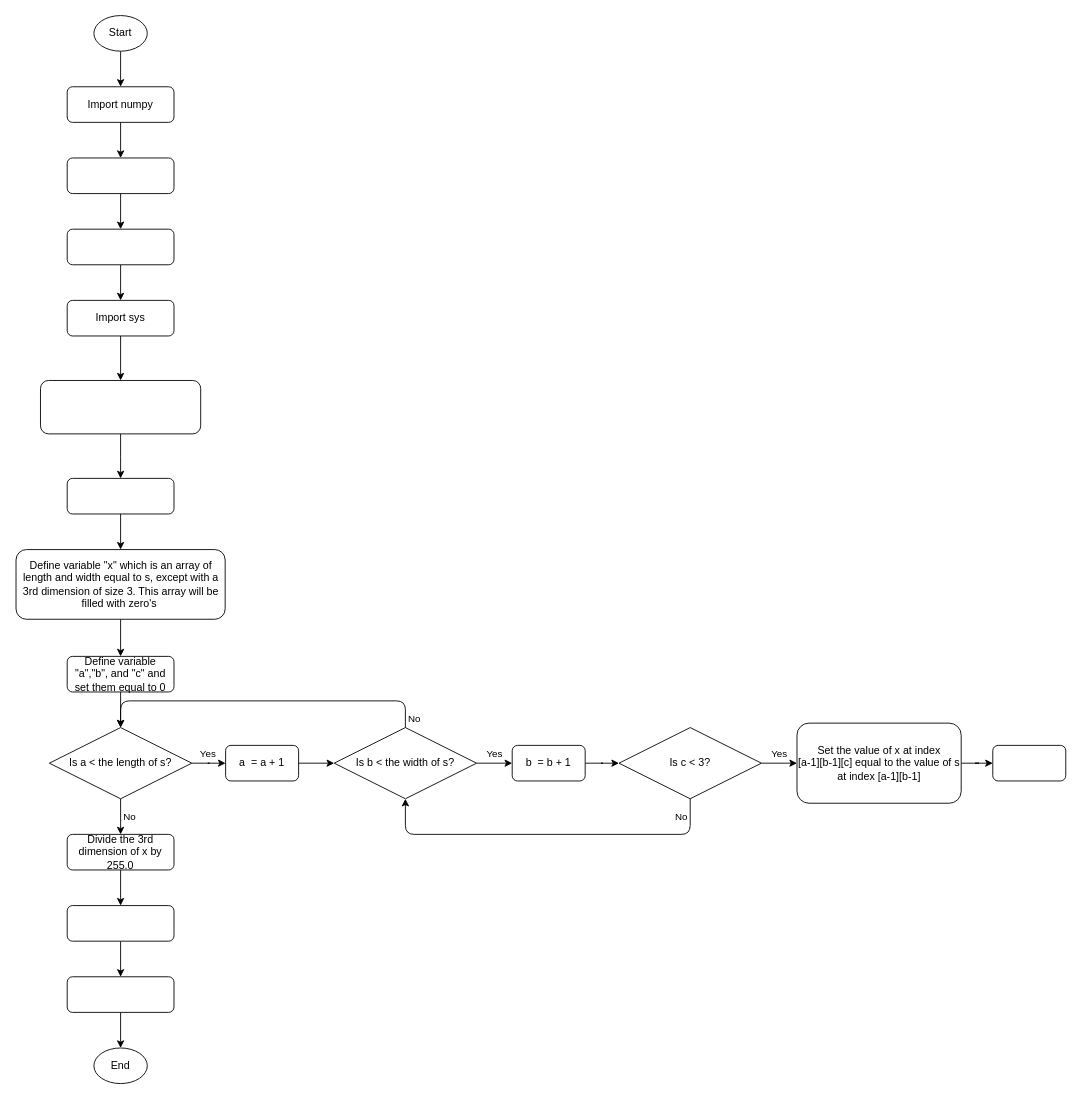
Image size: 1081x1099. Some labels were removed from this diagram. Each missing label, with the centre of its shape:
c = c + 1: (1029,762)
Define function "outputImage" with input of a 2d matrix: (120,407)
Define variable "s" and set equal to inputted matrix: (120,495)
Import image from matplotlib: (120,175)
Import pyplot from matplotlib: (120,246)
Plot the array x in Spyder as an image using imshow(): (120,994)
Save the array x as an image using imsave(): (120,923)
